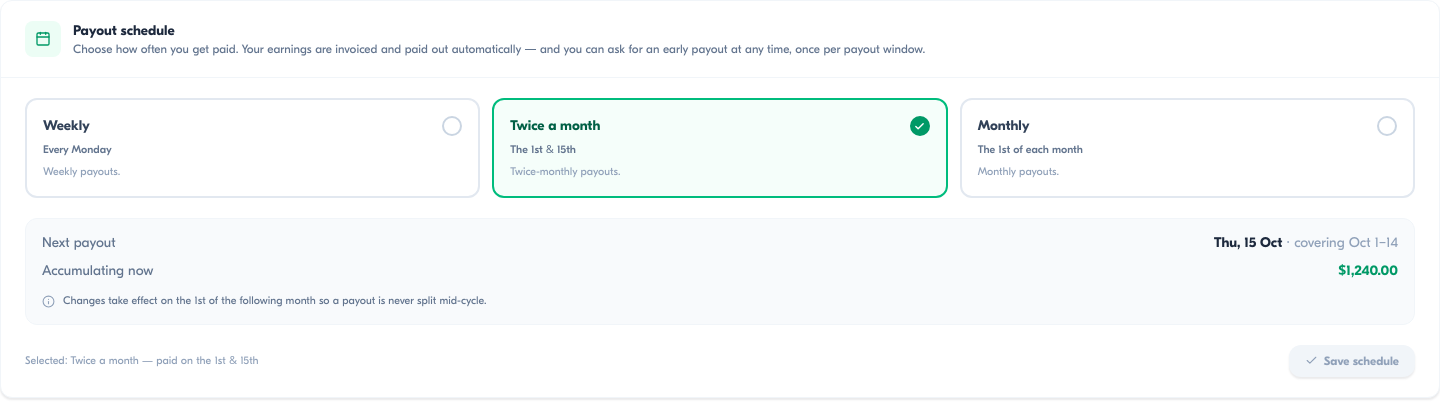
it: PayoutScheduleEditor › marks the active plan selected and keeps save disabled until it changes
Expected: the button "Save schedule" is disabled, [1289,345,1415,377]
Click the radio button labelled "Weekly Every Monday Weekly payouts." at (66, 126), box [25,98,480,198]
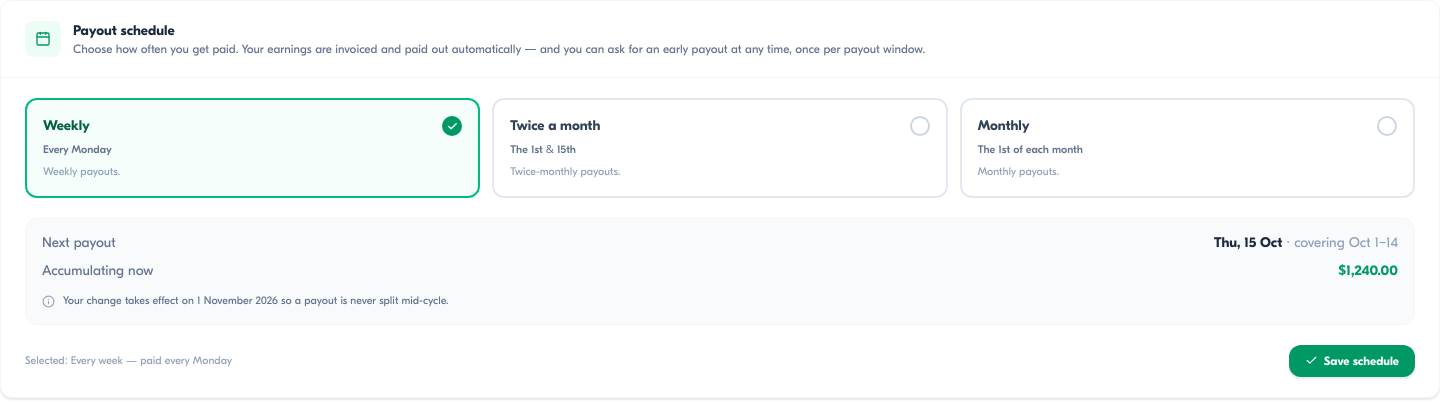
Expected: the button "Save schedule" is enabled, [1289,345,1415,377]
